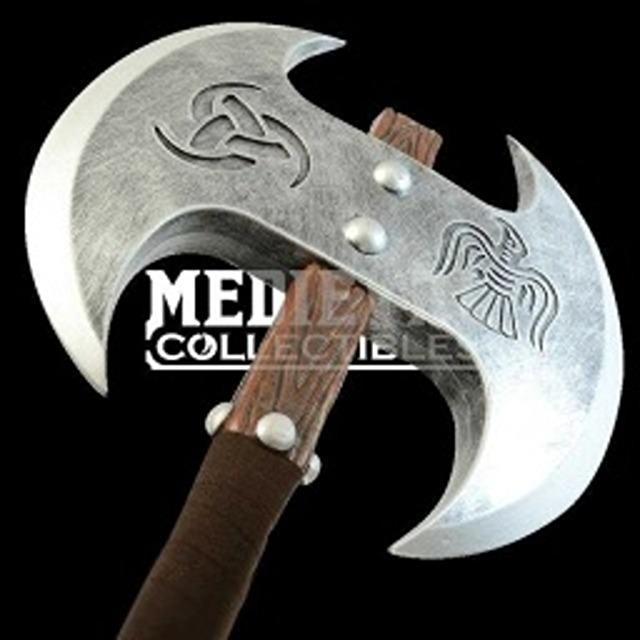ax: (11, 9, 640, 640)
